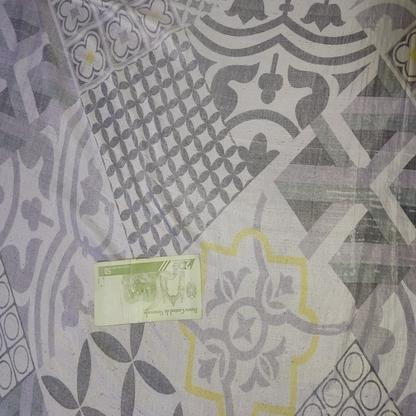fifty-back-vef: (94, 254, 202, 326)
